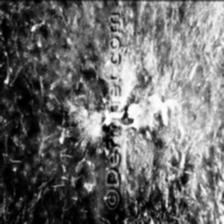Potentially Malignant Skin Tumors: (118, 72, 180, 146), (68, 72, 108, 158)
